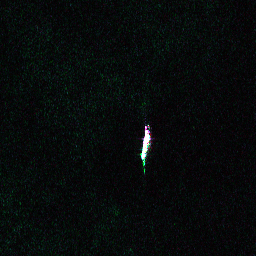ship: (139, 128, 152, 162)
